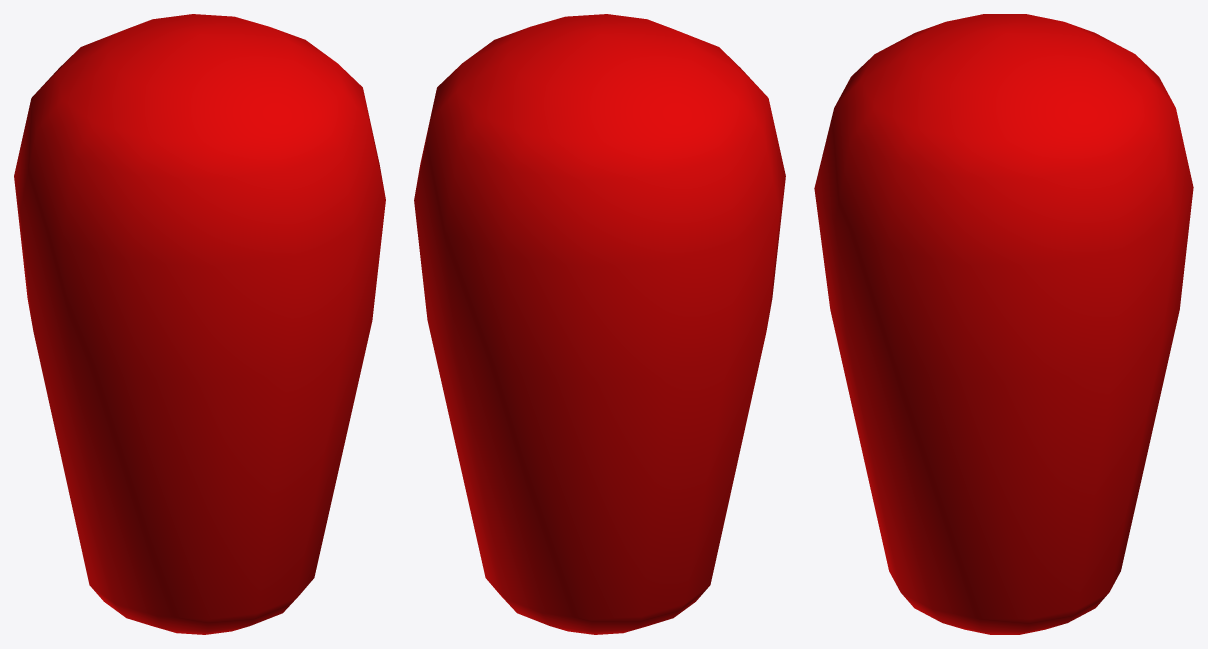
Rendered from tarako.FBX.
3 renders of one model, left to right at view 1: azimuth 30°, elevation 25°; view 2: azimuth 150°, elevation 25°; view 3: azimuth 270°, elevation 25°, orthographic.
Parts seen in each view (by area): view 1: Sphere001; view 2: Sphere001; view 3: Sphere001.
Boxes of the visible parts, x1,y1,x2,y2 form: Sphere001: (14,14,385,634); Sphere001: (414,14,785,634); Sphere001: (814,14,1193,634).
Bounding box in the file's own units: 9.82 × 17.35 × 10.13.
